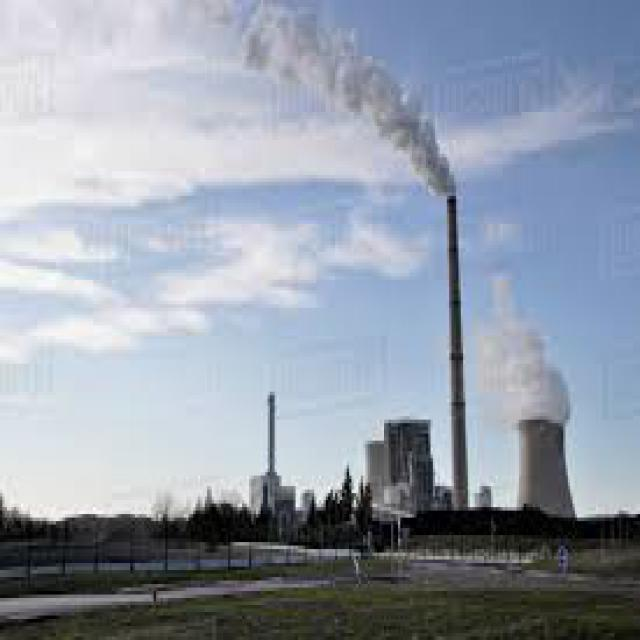Smoke: (228, 10, 478, 199), (484, 255, 572, 431)
